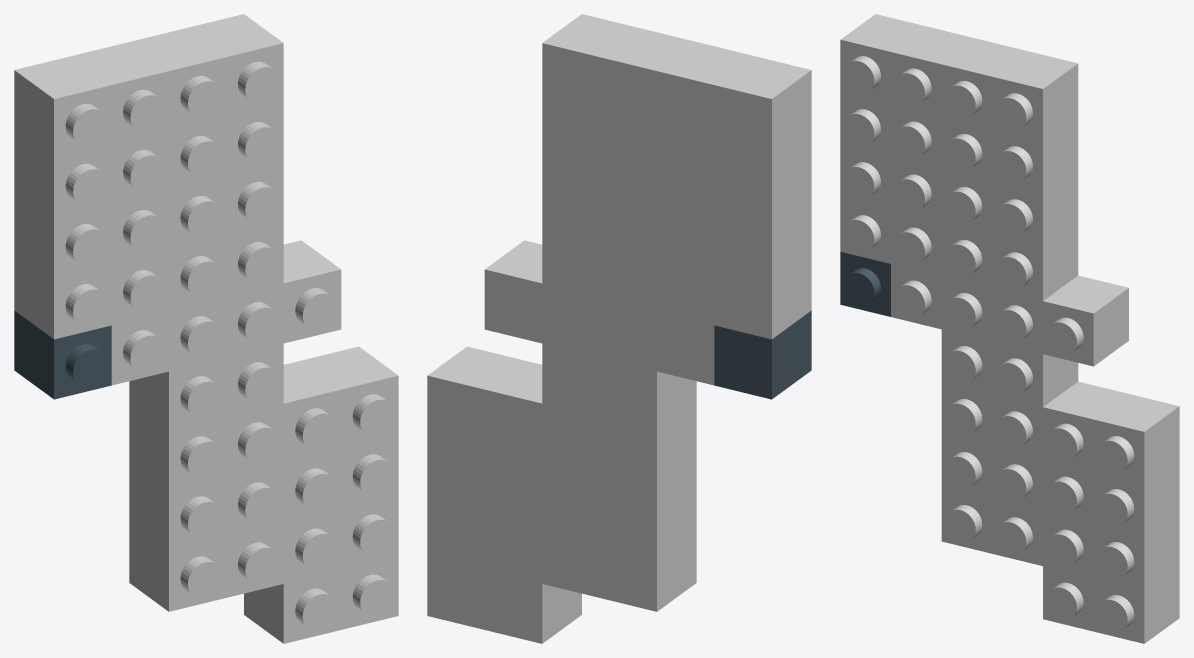
Rendered from current.glb.
3 views of the same model, side by side, from view 1: azimuth 30°, elevation 25°; view 2: azimuth 150°, elevation 25°; view 3: azimuth 330°, elevation 25° (orthographic). The views are drawn at different scales.
Parts seen in each view (by area): view 1: world; view 2: world; view 3: world.
Boxes of the visible parts, x1,y1,x2,y2 form: world: (14,14,398,643); world: (427,14,811,643); world: (840,14,1179,643).
Size of the model in its own units: 48 by 80 by 11.4.
